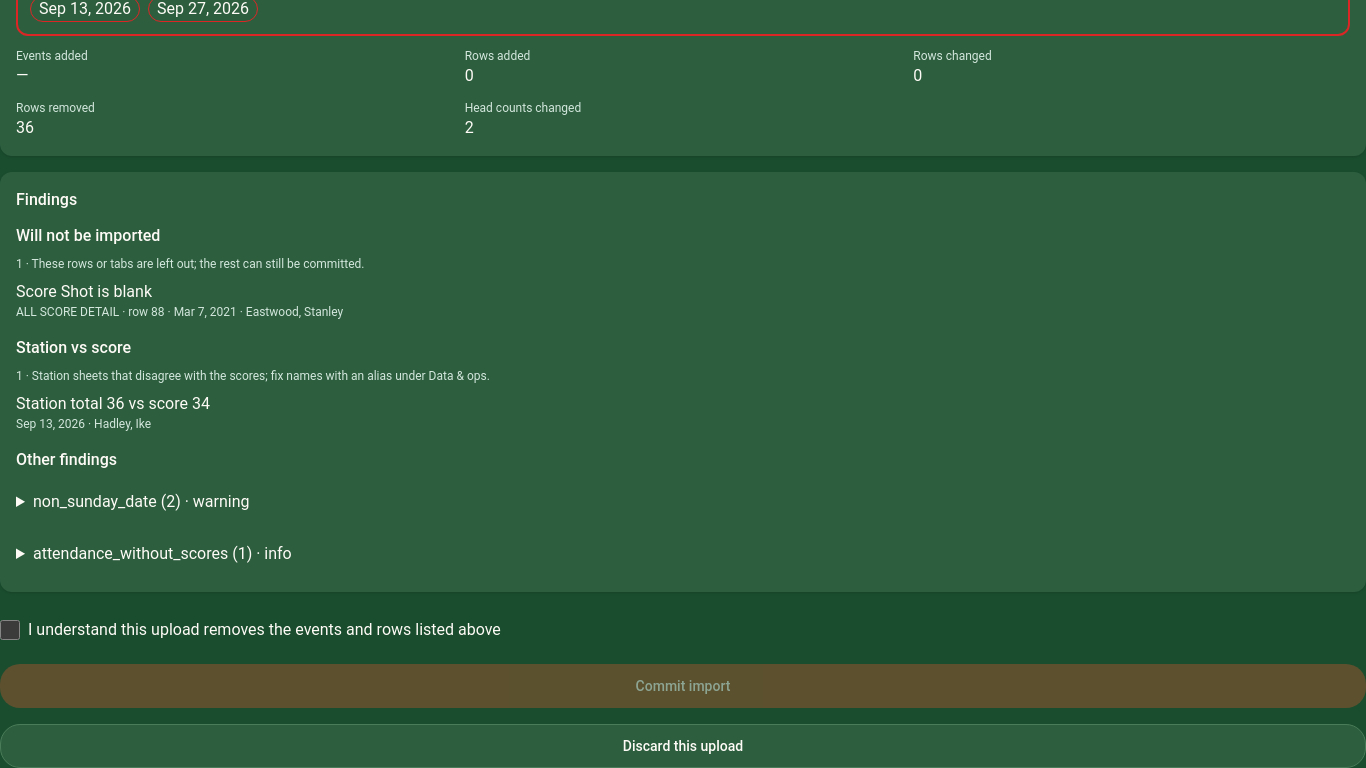
Scenario: ImportPreviewView › a failed discard shows the server message
(page scrolled)
Click the button "Discard this upload" at (683, 746), box left=0, top=724, right=1365, bottom=767
(page scrolled)
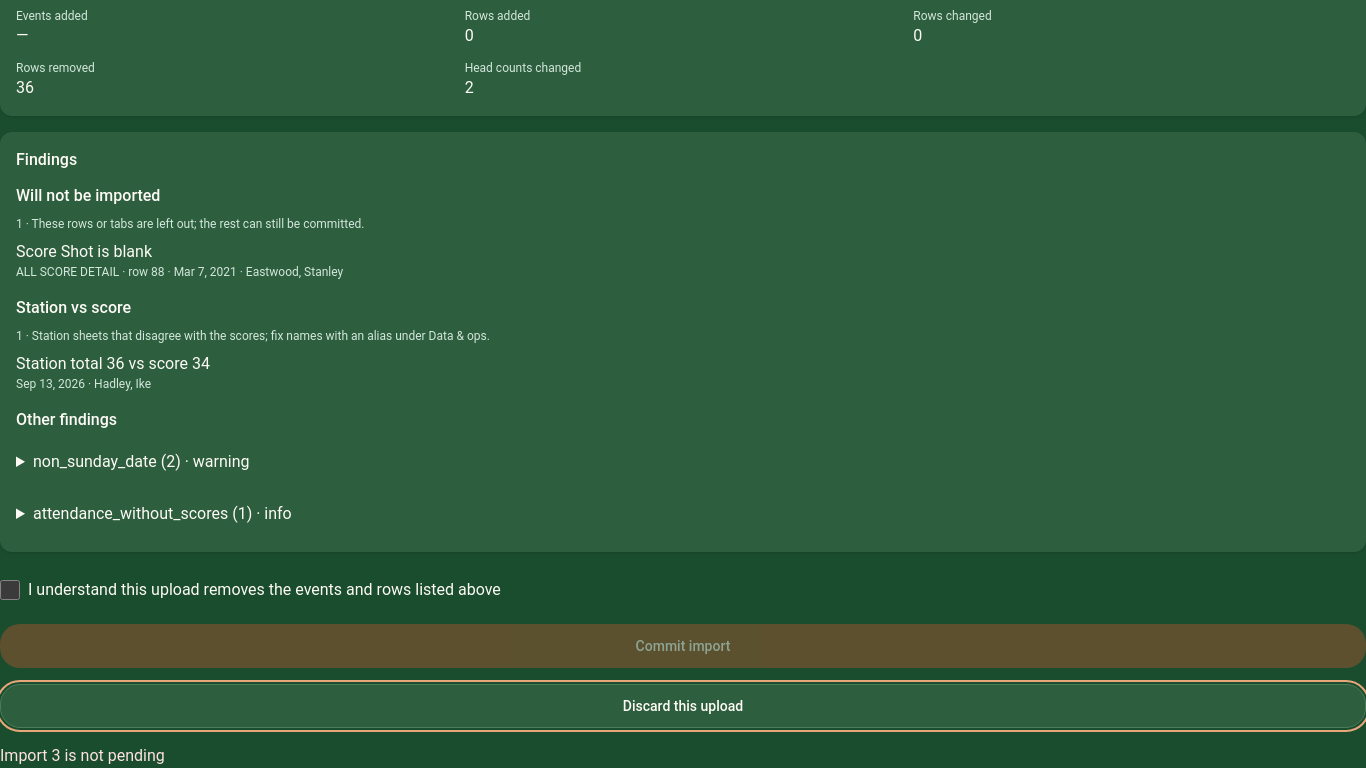
Expected: the message reads "Import 3 is not pending", left=0, top=746, right=165, bottom=765
